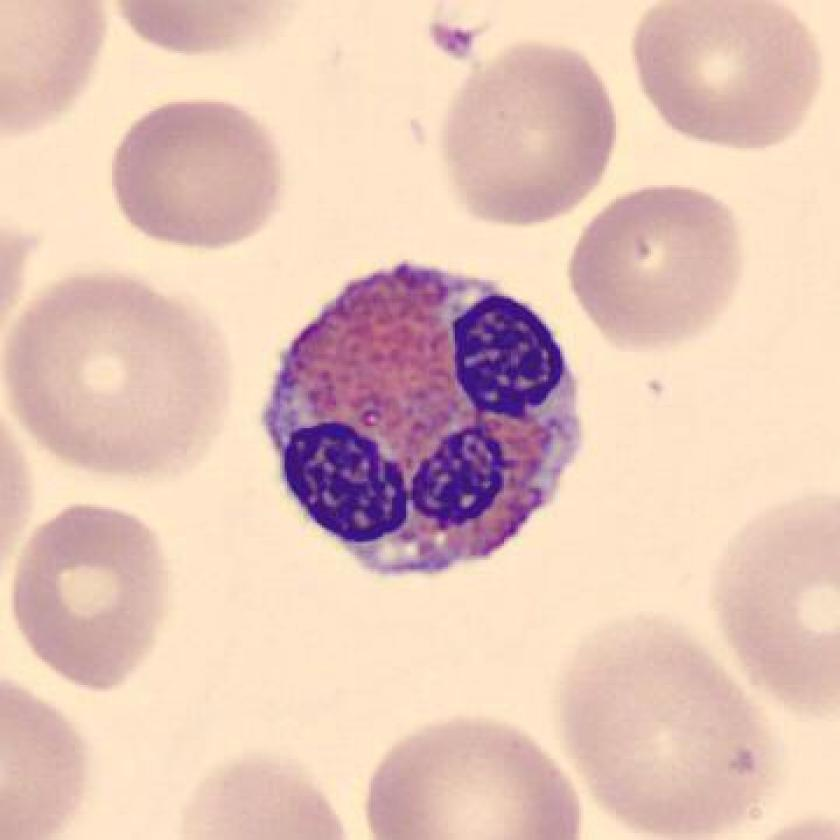eosinophil: (251, 251, 603, 591)
